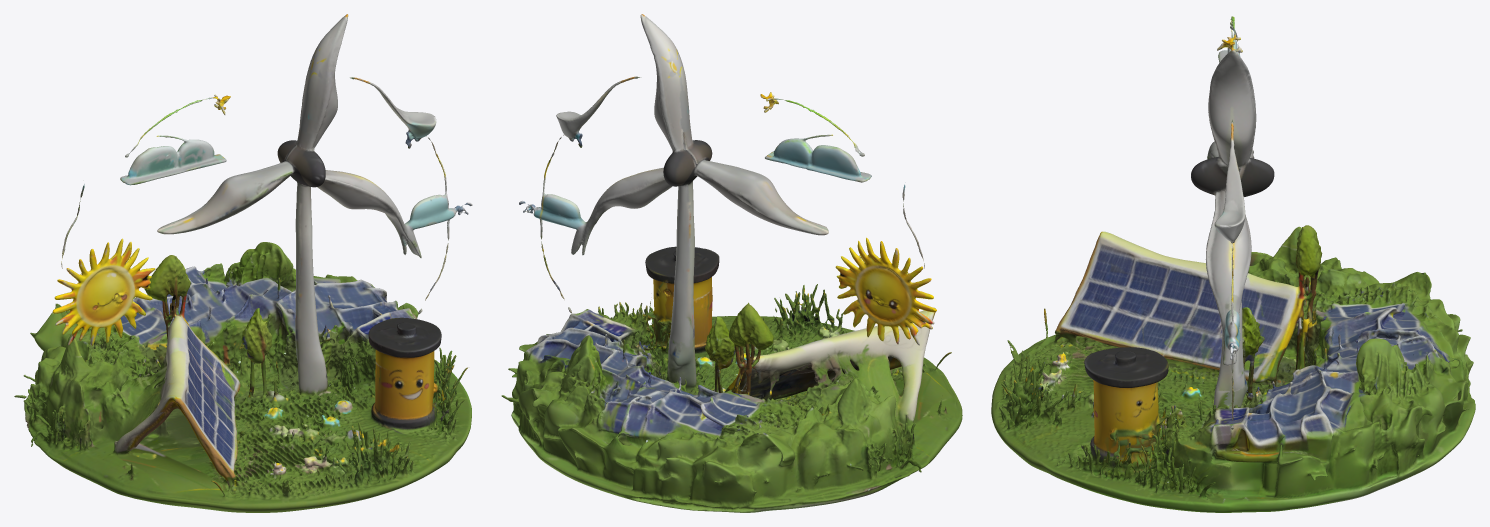
The model's file is energy.glb.
3 renders of one model, left to right at view 1: azimuth 30°, elevation 25°; view 2: azimuth 150°, elevation 25°; view 3: azimuth 270°, elevation 25°, orthographic. The views are drawn at different scales.
Size of the model in its own units: 62713 by 58104 by 57652.
Materials: 1 (1 with a texture image).
